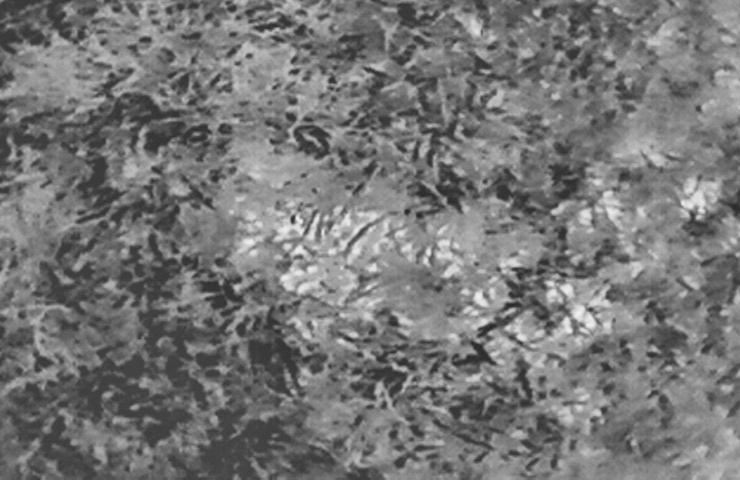landmines: (251, 193, 418, 319)
